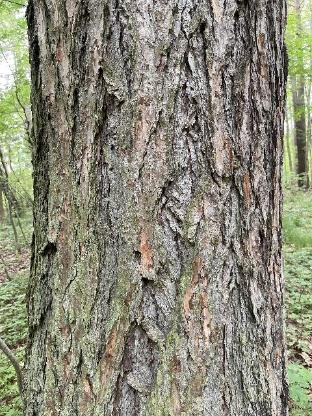tree: (16, 0, 297, 416)
